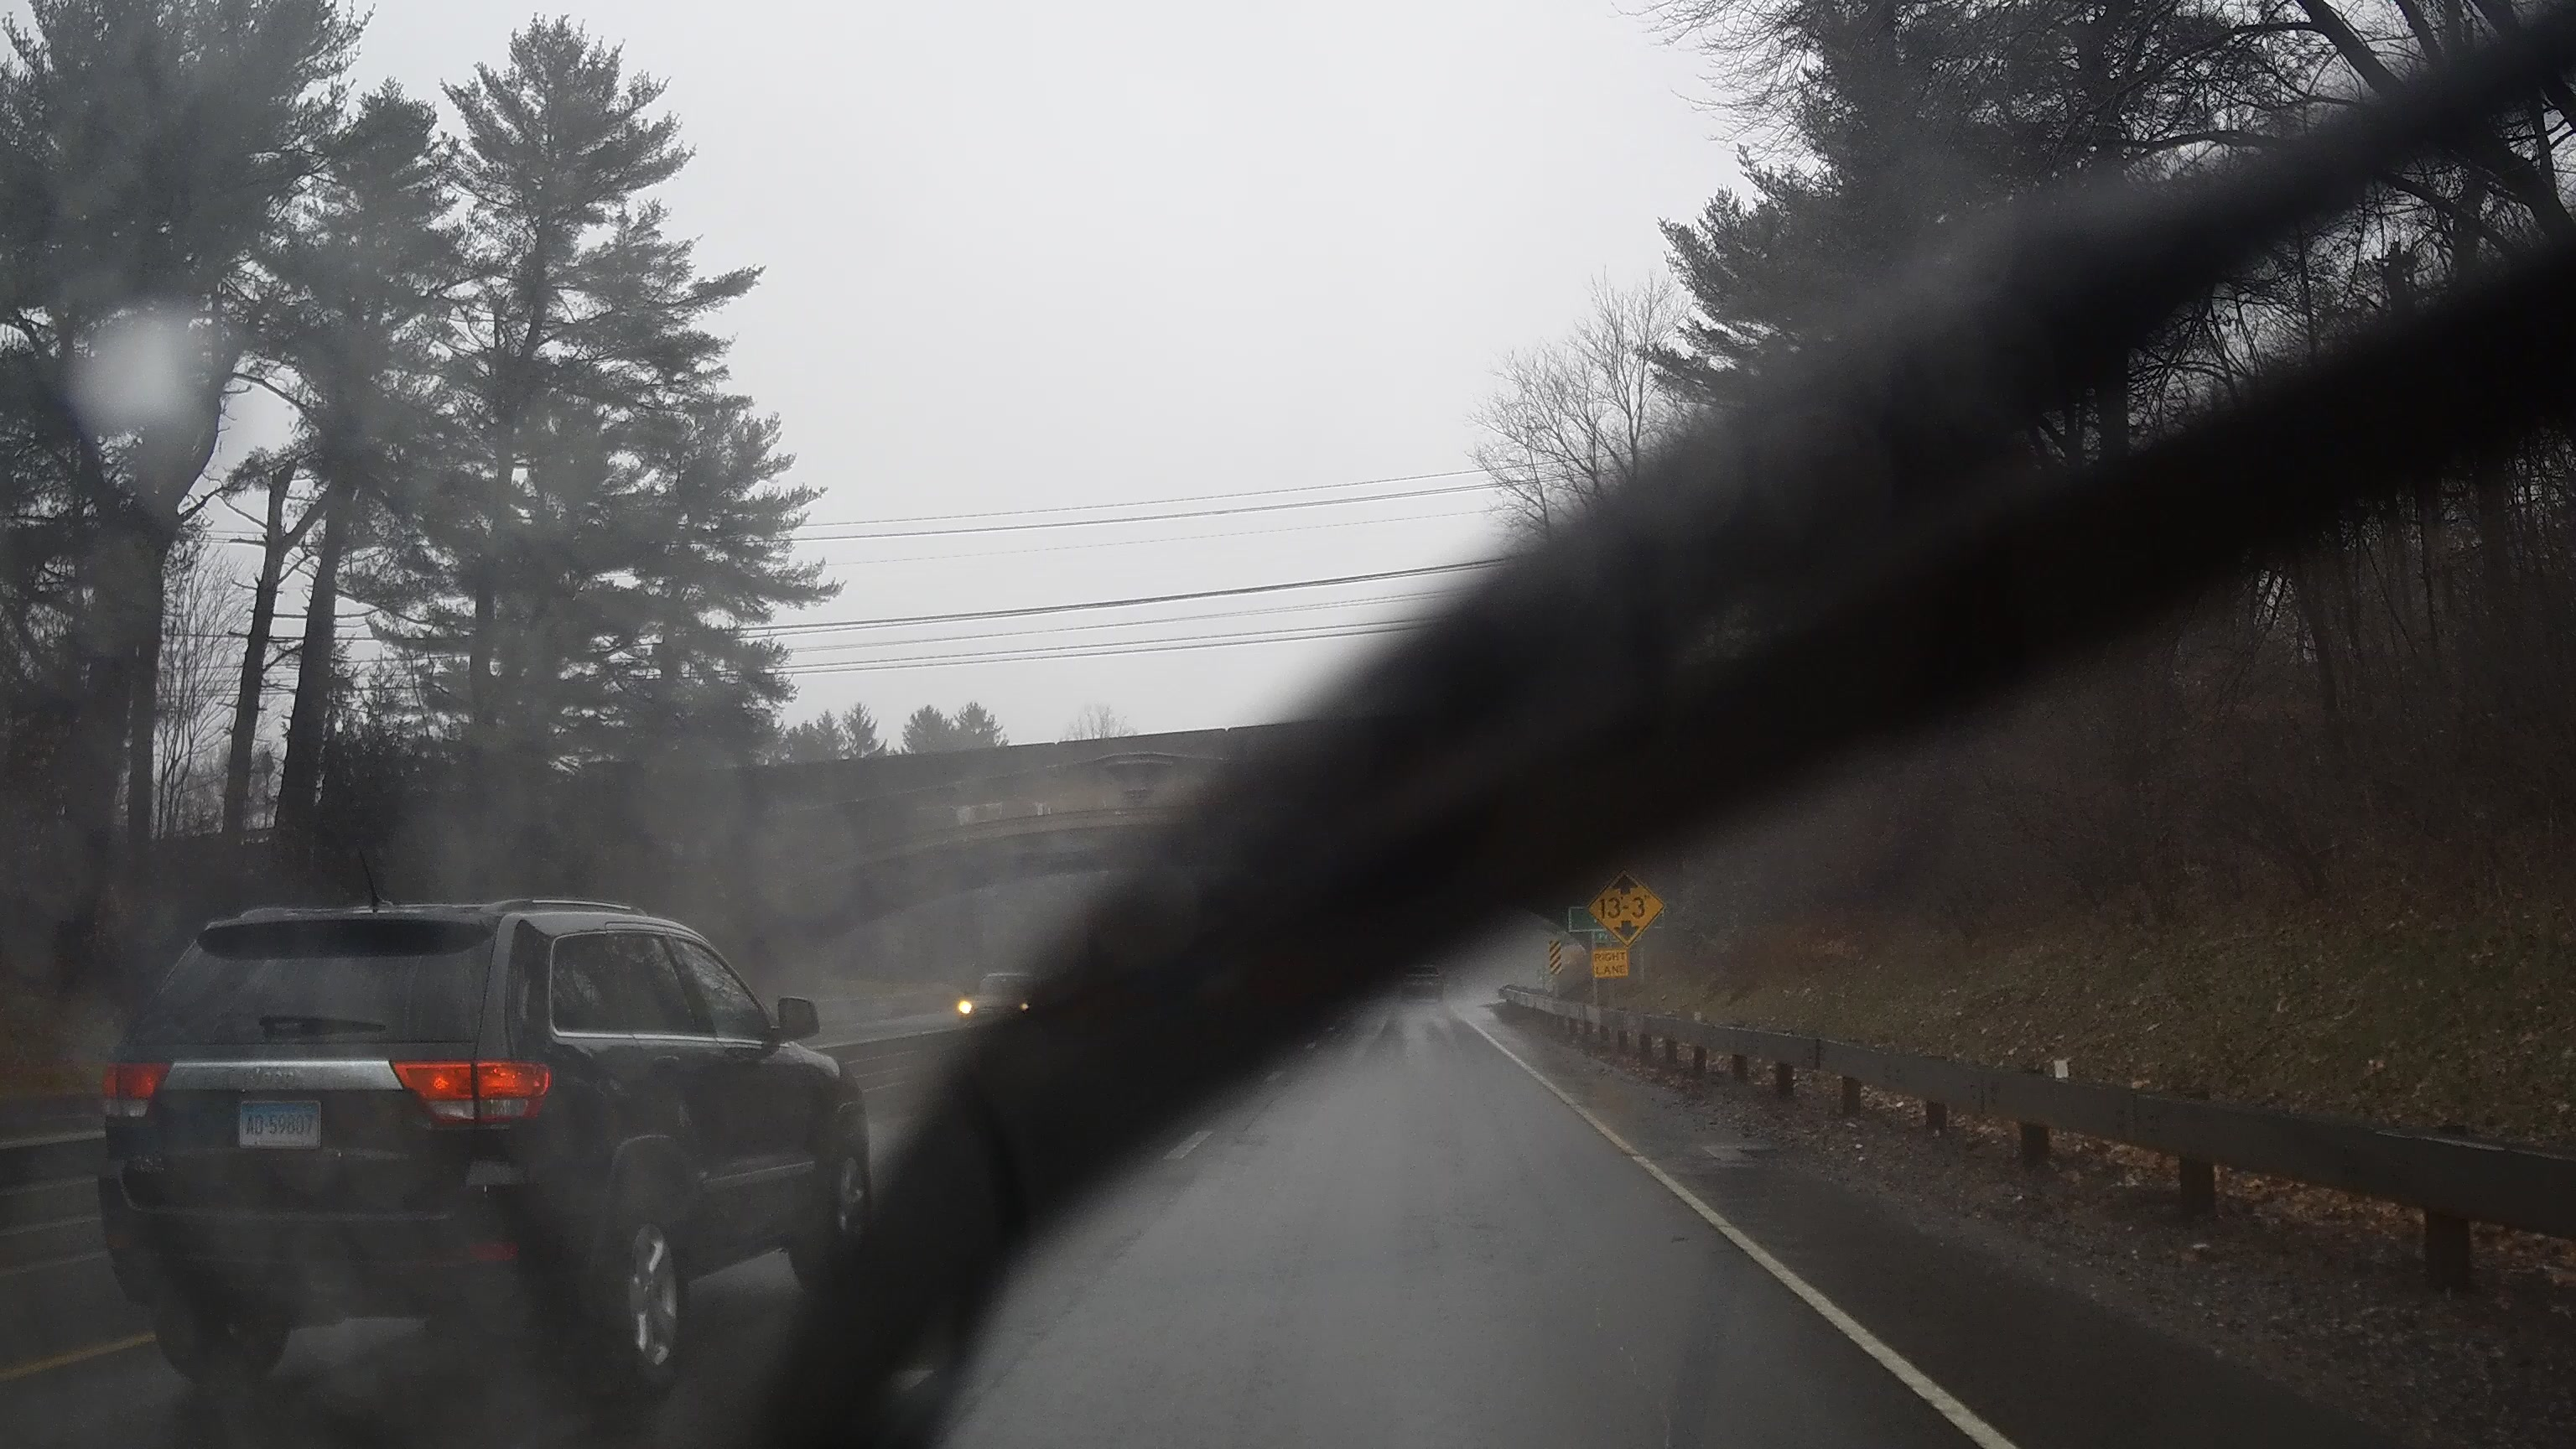low-clearance-sign: (1587, 869, 1665, 948)
